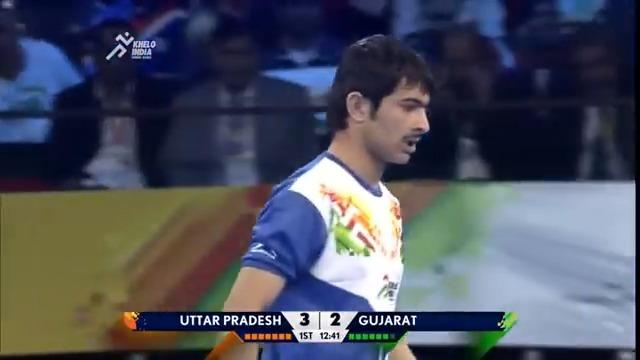Player: (203, 32, 434, 358)
